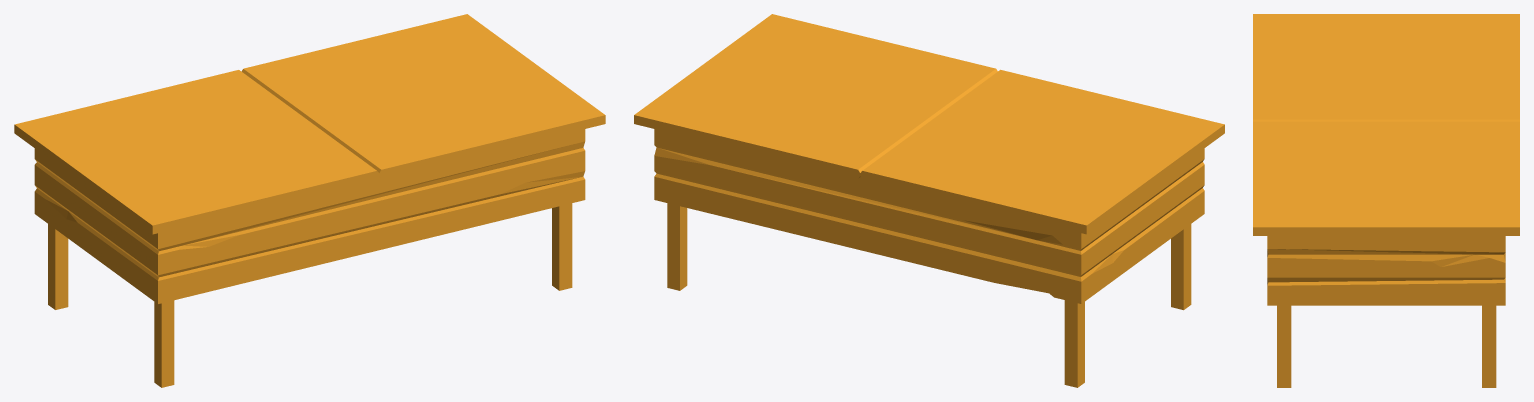
Rendered from SM_Planter_Box_Table_A_Farm.fbx.
3 renders of one model, left to right at view 1: azimuth 30°, elevation 25°; view 2: azimuth 150°, elevation 25°; view 3: azimuth 270°, elevation 25°, orthographic. The views are drawn at different scales.
Visible parts, largest first — view 1: planter-box-table-a-base-farm, planter-box-table-a-wing-l-farm, planter-box-table-a-wing-r-farm; view 2: planter-box-table-a-base-farm, planter-box-table-a-wing-l-farm, planter-box-table-a-wing-r-farm; view 3: planter-box-table-a-wing-r-farm, planter-box-table-a-wing-l-farm, planter-box-table-a-base-farm.
Part boxes in pixels (left/top/right/bottom): planter-box-table-a-base-farm: left=34, top=129, right=585, bottom=387; planter-box-table-a-wing-l-farm: left=14, top=70, right=379, bottom=234; planter-box-table-a-wing-r-farm: left=241, top=14, right=605, bottom=178; planter-box-table-a-base-farm: left=654, top=129, right=1204, bottom=387; planter-box-table-a-wing-l-farm: left=860, top=69, right=1224, bottom=234; planter-box-table-a-wing-r-farm: left=634, top=14, right=997, bottom=178; planter-box-table-a-wing-r-farm: left=1253, top=121, right=1519, bottom=235; planter-box-table-a-wing-l-farm: left=1253, top=14, right=1519, bottom=121; planter-box-table-a-base-farm: left=1267, top=236, right=1505, bottom=387.
Bounding box in the file's own units: 2.12 × 0.79 × 1.12.
